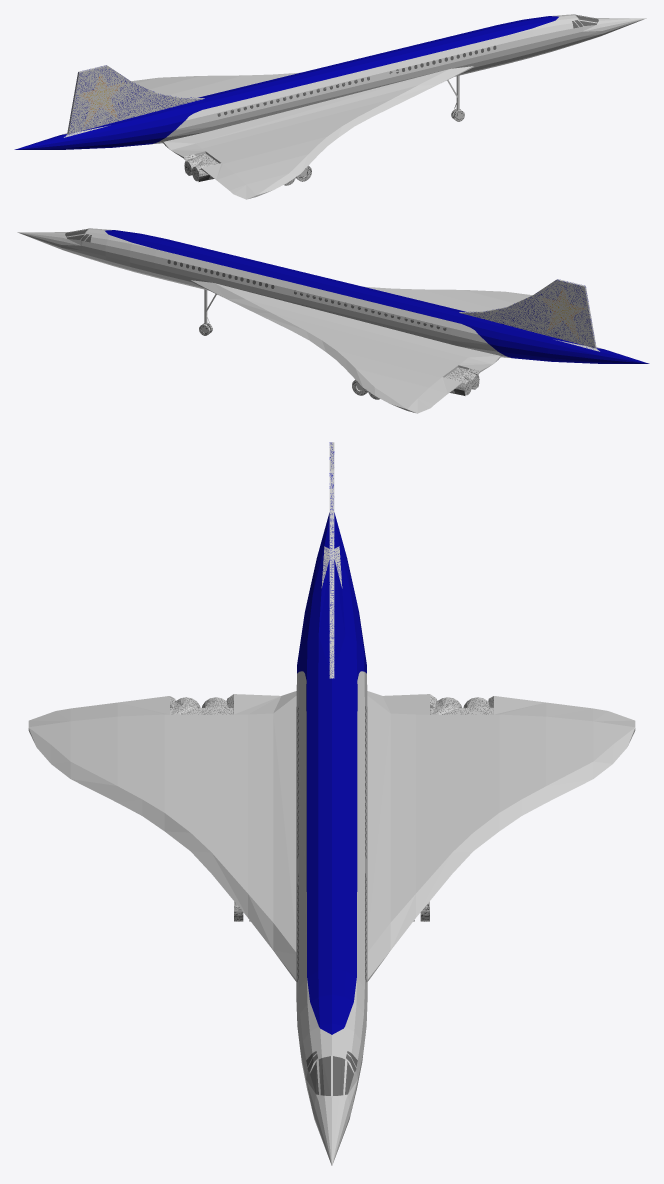
3 views of the same model, one above another, from view 1: azimuth 30°, elevation 25°; view 2: azimuth 150°, elevation 25°; view 3: azimuth 270°, elevation 25° (orthographic). The views are drawn at different scales.
Visible parts, largest first — view 1: mesh1_mesh1-geometry; view 2: mesh1_mesh1-geometry; view 3: mesh1_mesh1-geometry.
Boxes of the visible parts, bbox=[...] form: mesh1_mesh1-geometry: bbox=[14, 14, 646, 199]; mesh1_mesh1-geometry: bbox=[17, 228, 649, 413]; mesh1_mesh1-geometry: bbox=[28, 442, 635, 1165].
Bounding box in the file's own units: 0.907 × 0.192 × 0.3748.
